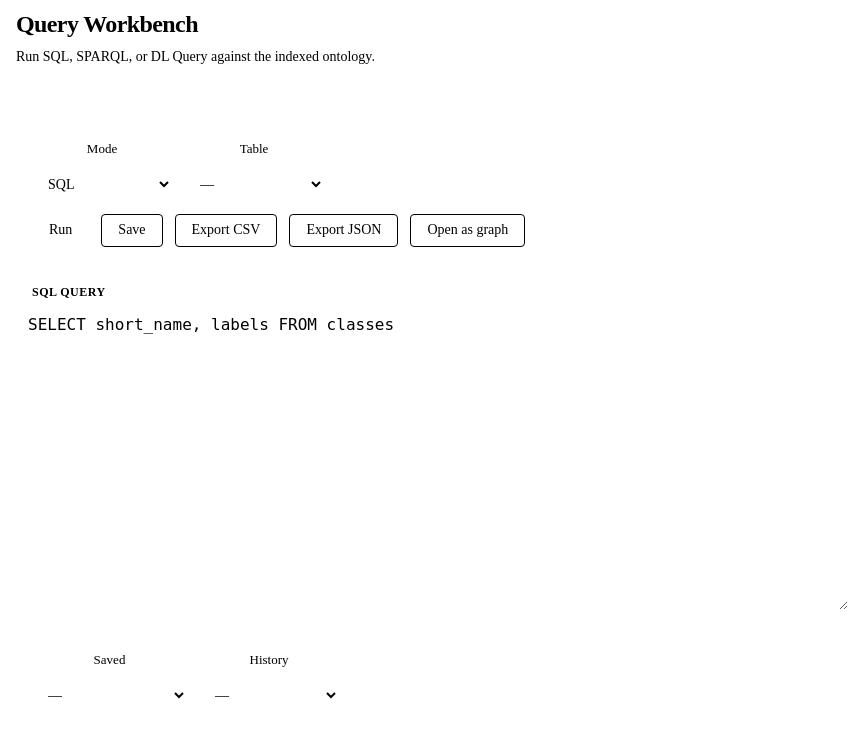
QueryWorkbenchPanel › loads query text from saved and history dropdowns
The image size is (865, 729).
Step 1. Select "All classes (sql)" in the dropdown named "All classes (sql)" → {"x": 110, "y": 695}, box 32,678 -> 187,713
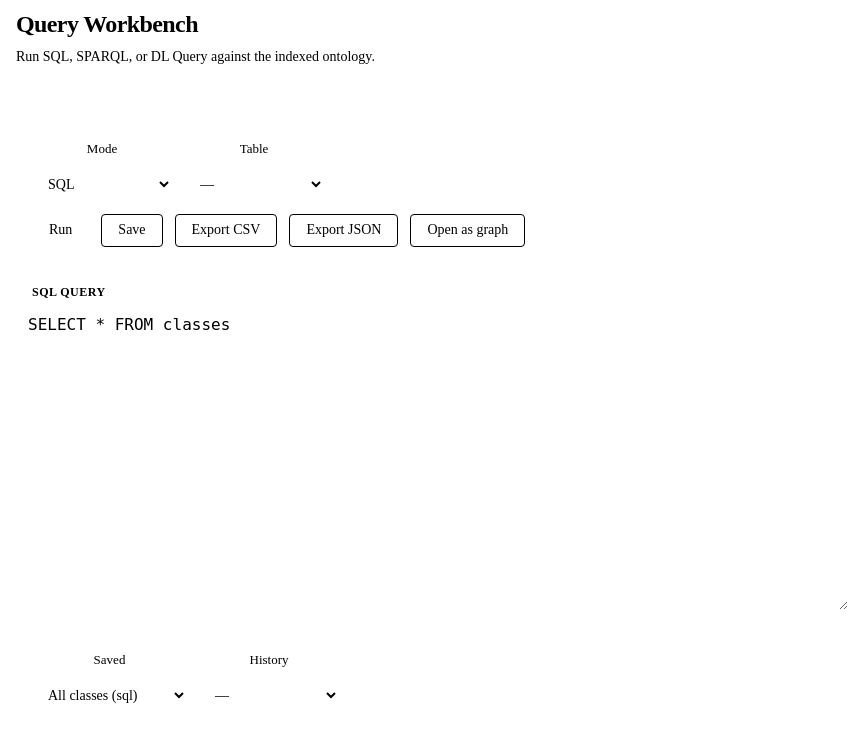
Expected: the text box holds "SELECT * FROM classes", 16,304 -> 848,610
Step 2. Select "Recent" in the dropdown named "Recent" → {"x": 269, "y": 695}, box 199,678 -> 339,713
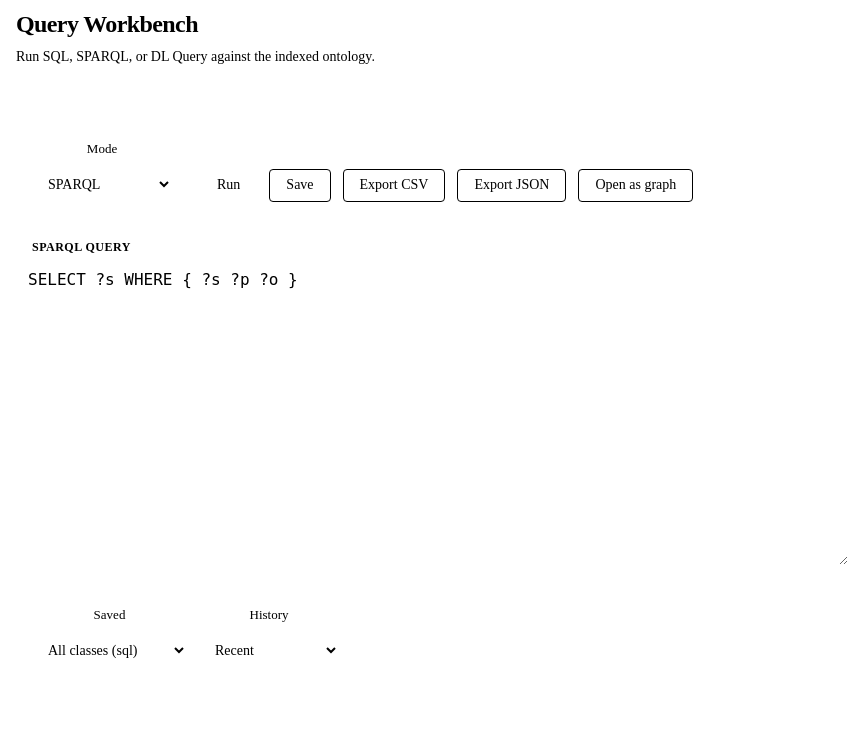
Expected: the text box holds "SELECT ?s WHERE { ?s ?p ?o }", 16,259 -> 848,565
Expected: the dropdown labelled "Mode" shows "SPARQL", 32,167 -> 172,202
